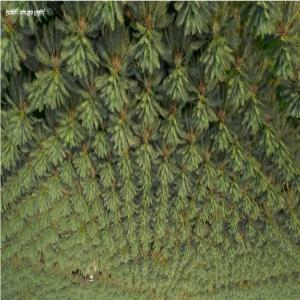palm tree: (0, 1, 300, 294)
